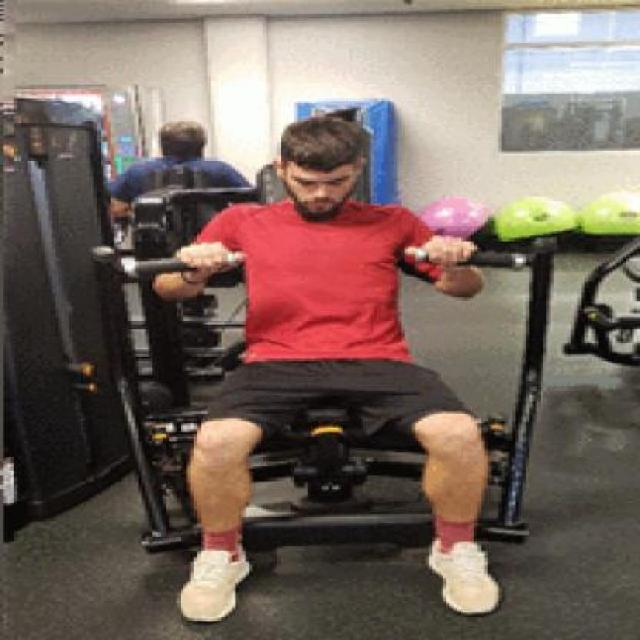Chest Press machine: (3, 78, 588, 640)
